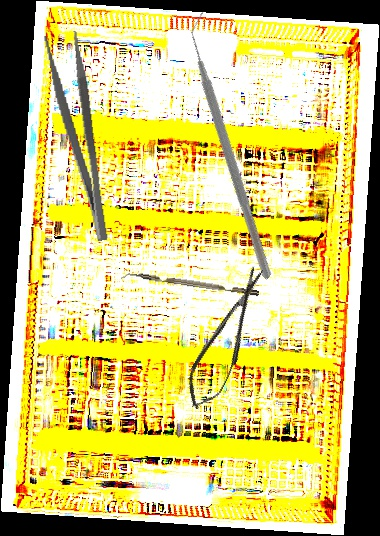Chopper: (97, 11, 373, 280), (120, 269, 260, 303)
Dressing Forceps: (42, 30, 113, 245)
Micro Scissor: (176, 261, 279, 416)
